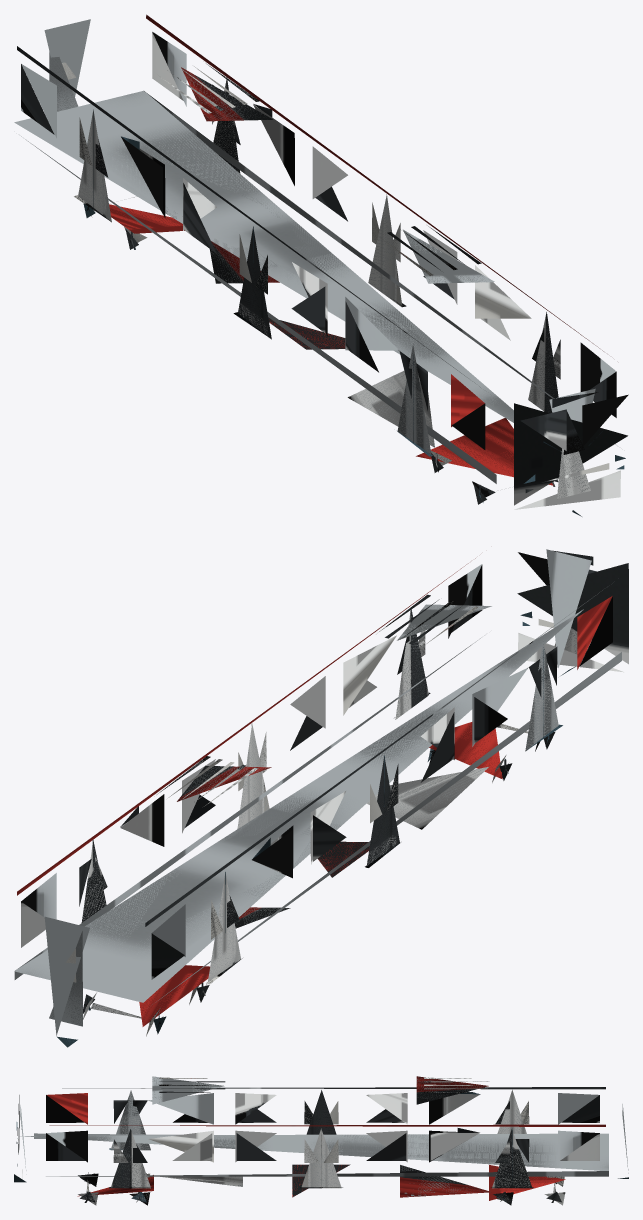
Rendered from regional_trailer.lod2.obj.
The picture shows the model from 3 angles, top to bottom: view 1: azimuth 30°, elevation 25°; view 2: azimuth 150°, elevation 25°; view 3: azimuth 270°, elevation 25°; orthographic projection. The views are drawn at different scales.
Parts seen in each view (by area): view 1: regional_trailer; view 2: regional_trailer; view 3: regional_trailer.
Boxes of the visible parts, bbox=[...] form: regional_trailer: bbox=[14, 14, 628, 516]; regional_trailer: bbox=[14, 549, 628, 1047]; regional_trailer: bbox=[14, 1076, 628, 1205].
Bounding box in the file's own units: 3.08 × 3.95 × 20.
1 material, 1 textured.
